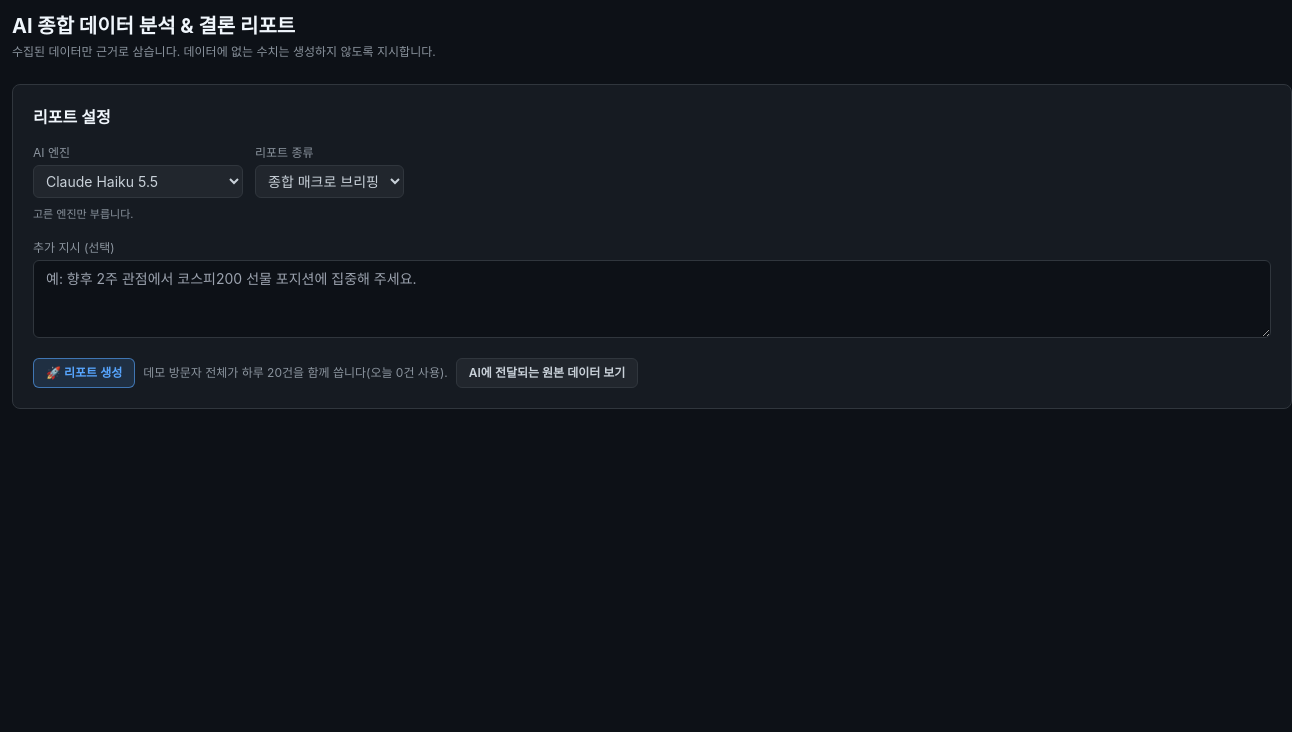
데모 열람 — 쓰기 버튼 › AI 리포트: 데모도 생성 버튼을 쓰고(쓸 수 있는 첫 엔진), 방문자 전체가 함께 쓰는 하루 한도를 안내한다
The width and height of the screenshot is (1292, 732).
Expected: the text "데모 방문자 전체가 하루 20건을 함께 씁니다(오늘 0건 사용)." is shown, [143,365,448,381]
Click the button "🚀 리포트 생성".
click(84, 373)  # box [33,358,135,388]
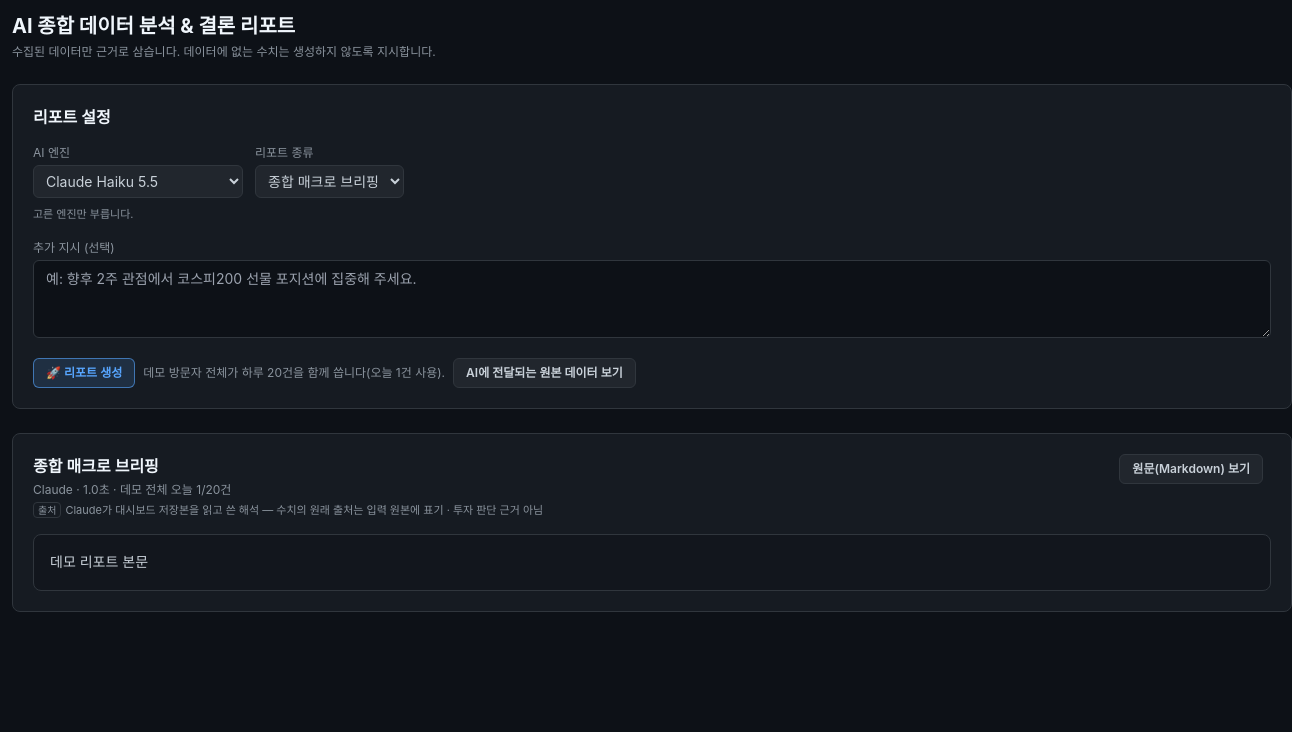
Expected: the text "데모 리포트 본문" is shown, [50,553,148,570]
Expected: the text "데모 방문자 전체가 하루 20건을 함께 씁니다(오늘 1건 사용)." is shown, [143,365,445,381]
Expected: the text "Claude · 1.0초 · 데모 전체 오늘 1/20건" is shown, [33,482,231,497]
